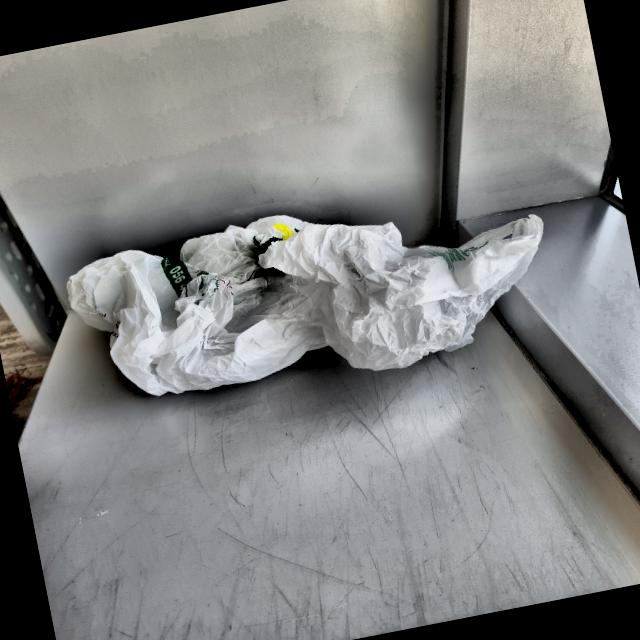plastic bag: (56, 155, 568, 431)
